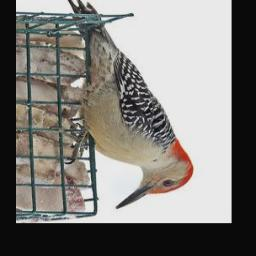Woodpecker: (63, 0, 194, 213)
